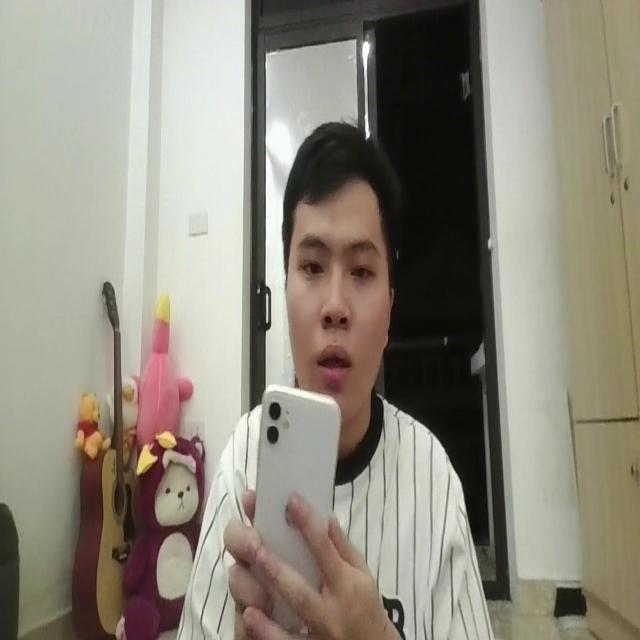phone: (254, 377, 339, 627)
student: (171, 120, 497, 640)
